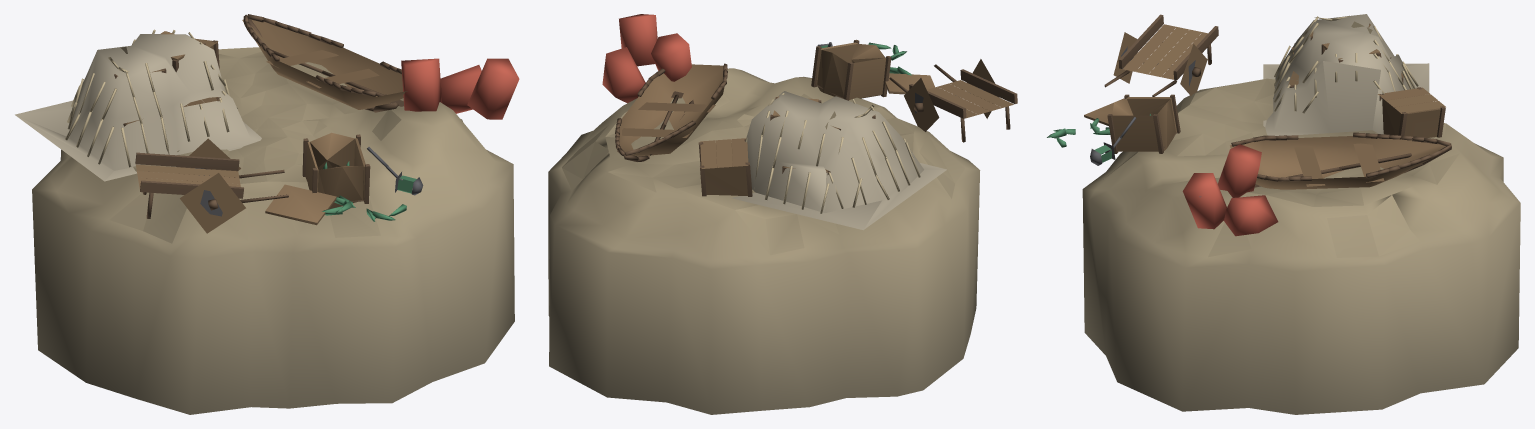
The model's file is smuggler_cache_far.ca424ad5.glb.
3 views of the same model, side by side, from view 1: azimuth 30°, elevation 25°; view 2: azimuth 150°, elevation 25°; view 3: azimuth 270°, elevation 25° (orthographic). The views are drawn at different scales.
Parts seen in each view (by area): view 1: smuggler_cache; view 2: smuggler_cache; view 3: smuggler_cache.
Part boxes in pixels (left/top/right/bottom): smuggler_cache: left=15, top=14, right=519, bottom=414; smuggler_cache: left=548, top=14, right=1017, bottom=414; smuggler_cache: left=1047, top=14, right=1520, bottom=414.
Bounding box in the file's own units: 6.39 × 4.28 × 7.15.
